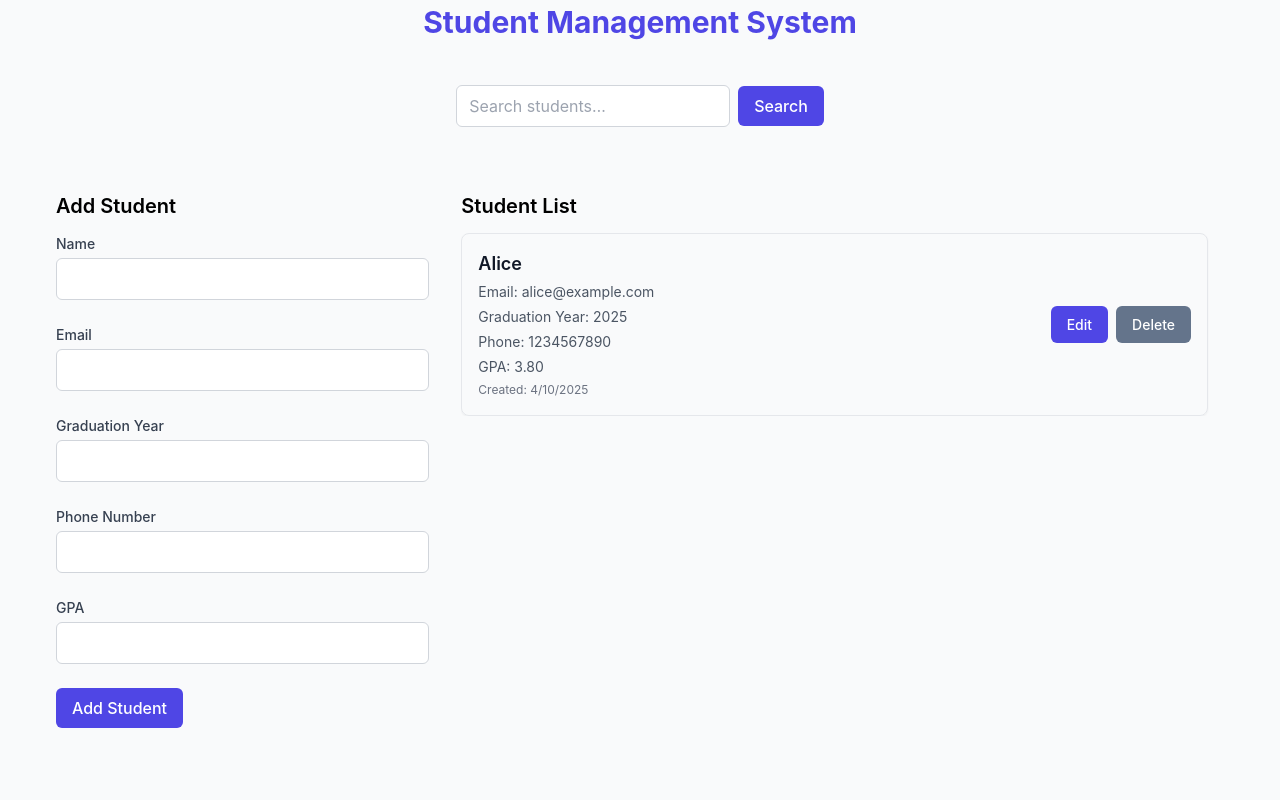
Test: HomePage › switches to edit mode when edit is clicked
This screenshot has width=1280, height=800.
Click the button "Edit".
click(1079, 324)  # box 1051,306 -> 1108,343
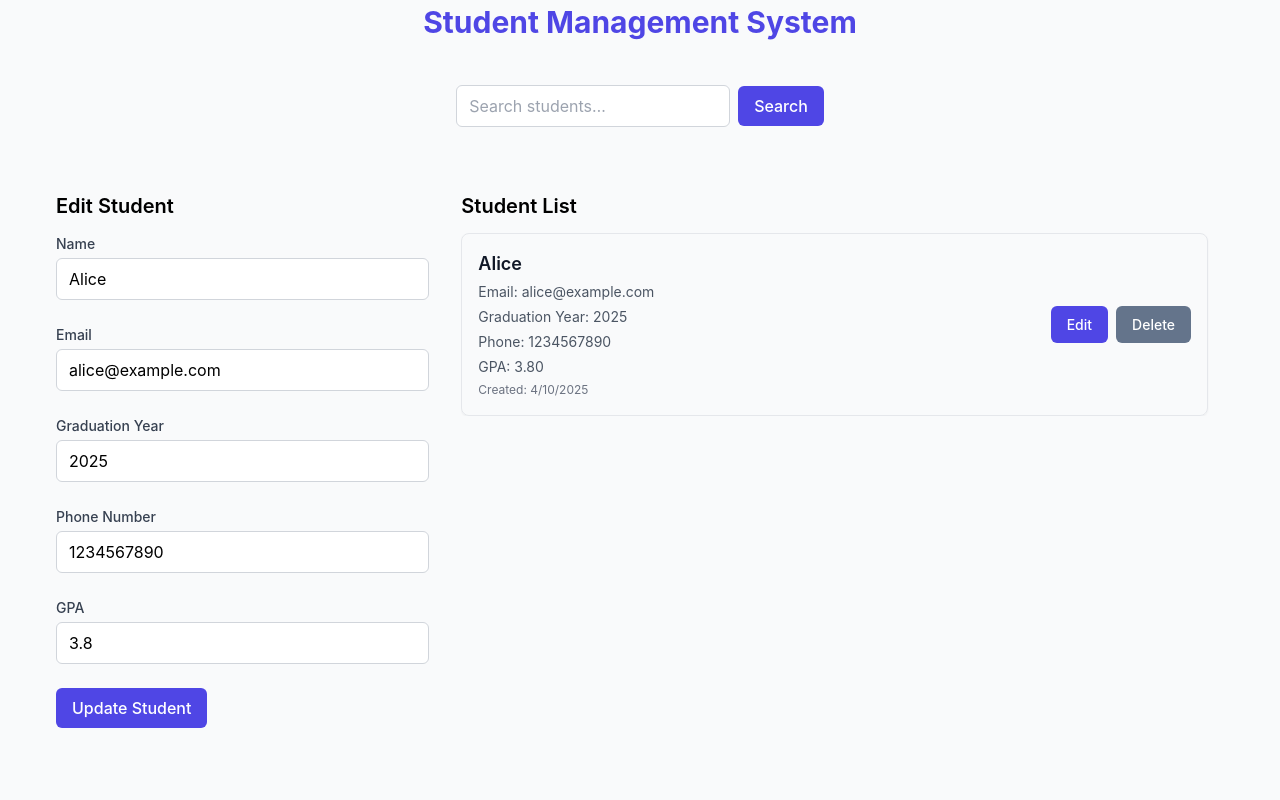
Result: the field showing "Alice" is shown at 56,258 -> 429,300
Result: the button "Update Student" is shown at 56,688 -> 207,728
